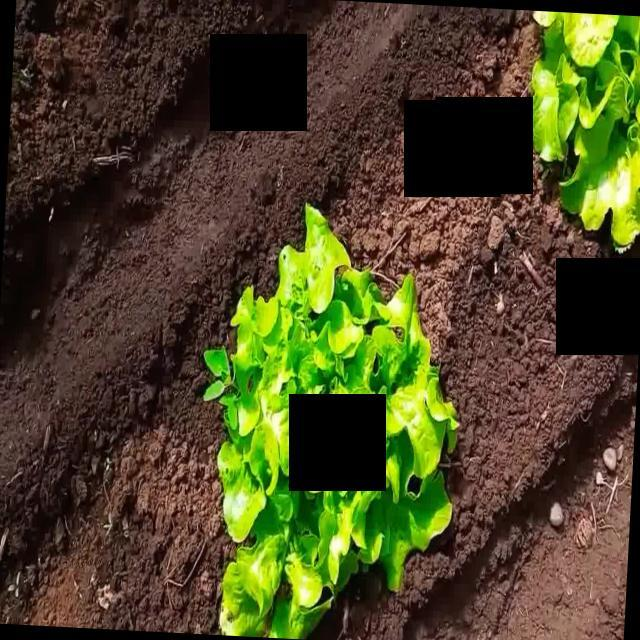Lettuce: (198, 201, 464, 640)
